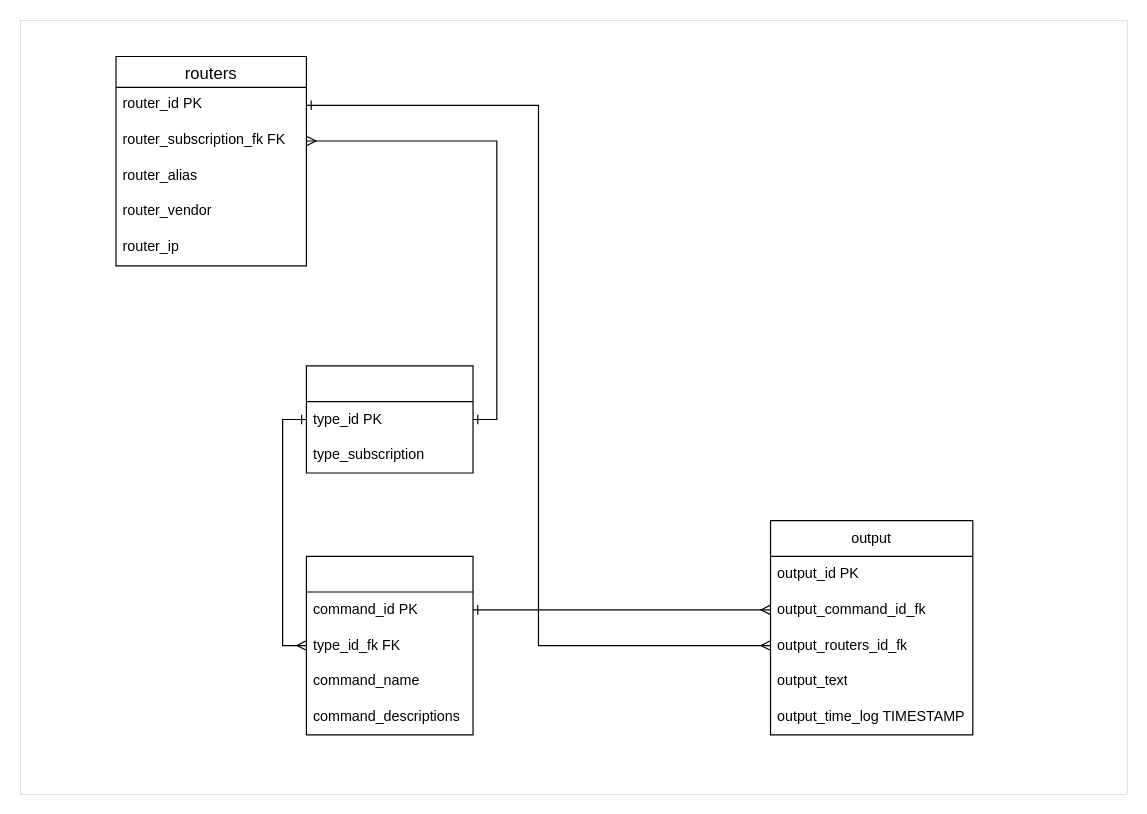
Some shapes in this 1147 by 814 pixel diagram are drawn without their labels. Here are the shapes that lost their labels. From the top down, the box of each, then its label:
(305, 365, 473, 473): typecommands
(305, 555, 473, 735): commands
